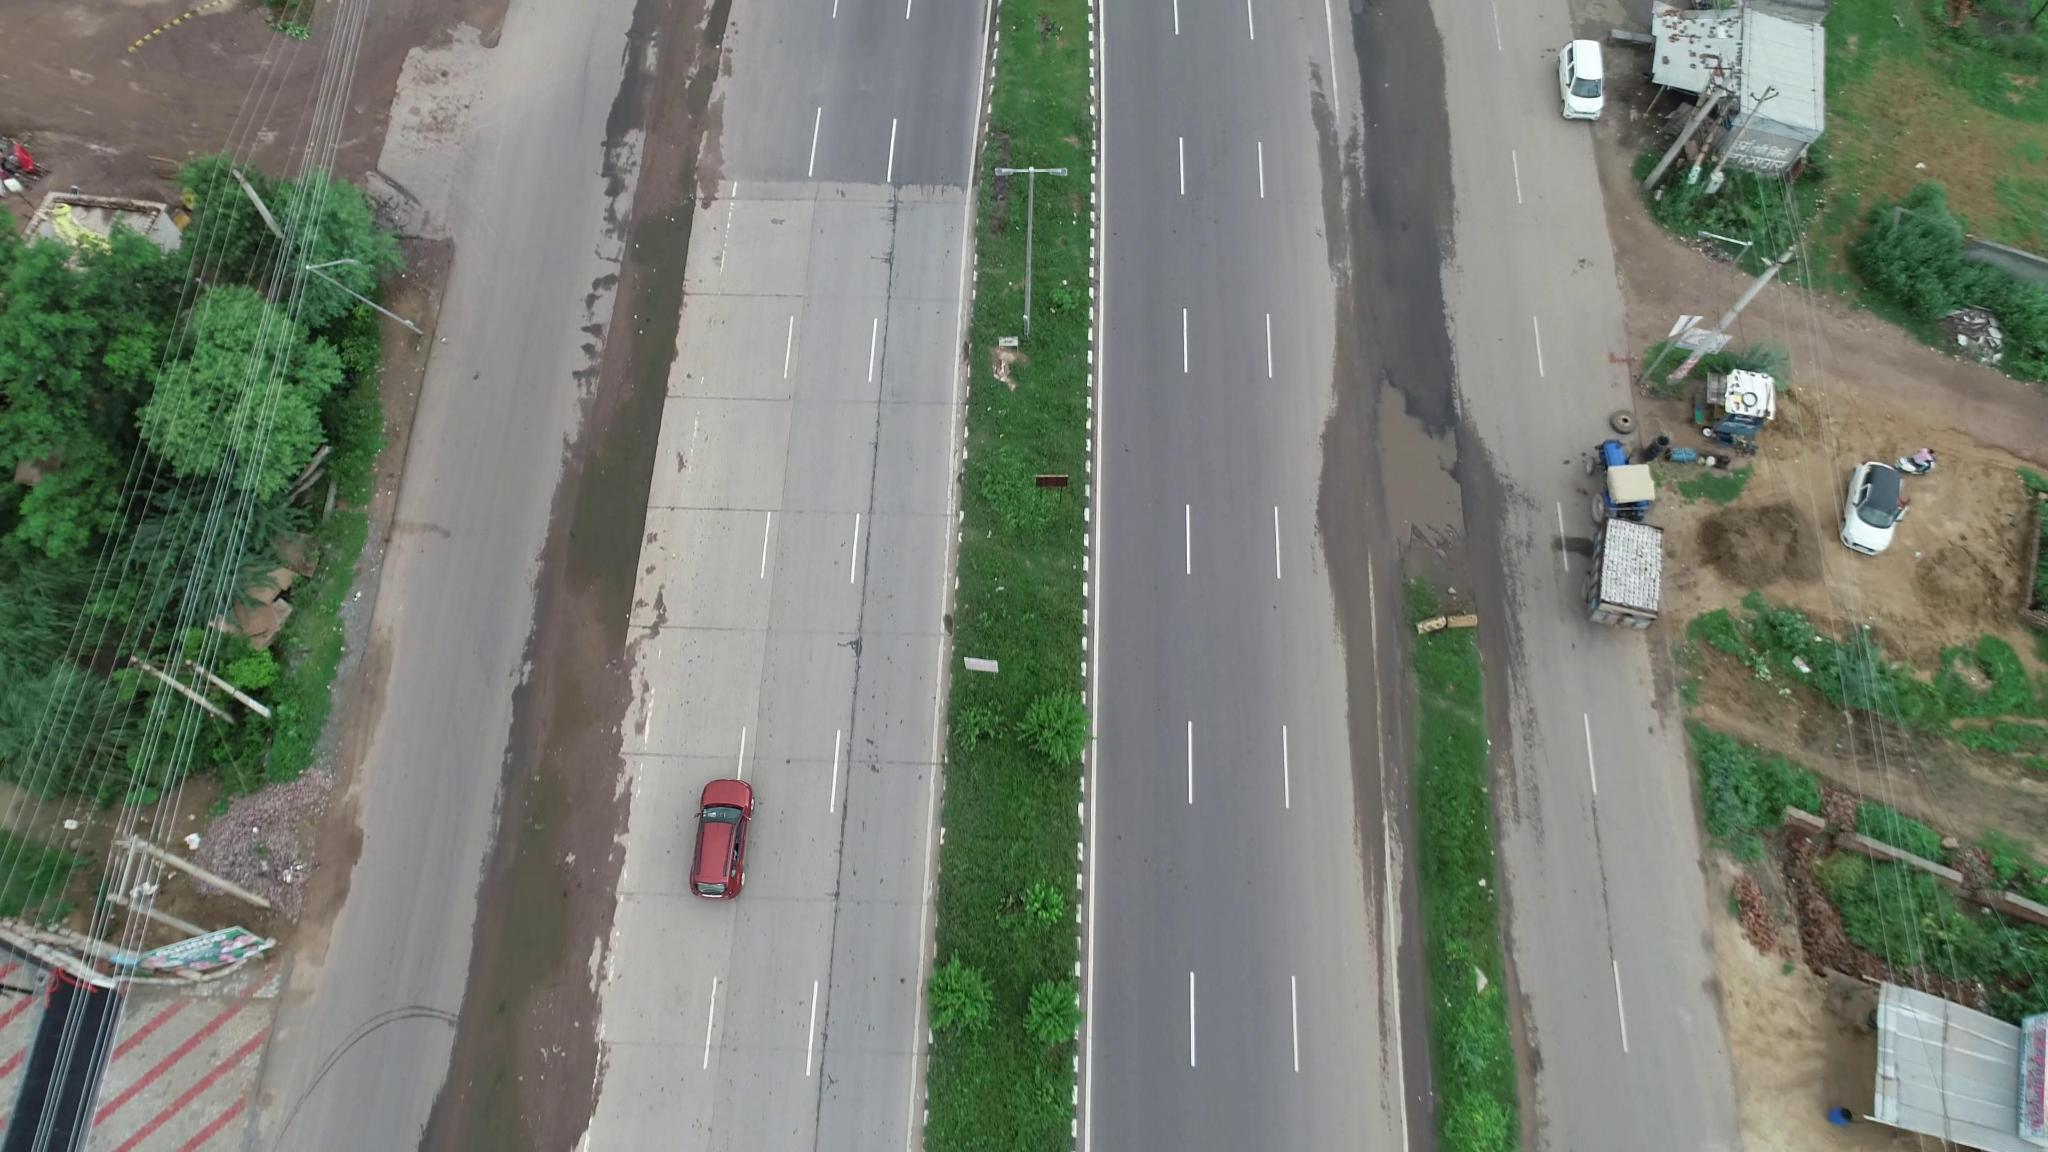Waterlogging: (1364, 359, 1477, 561)
